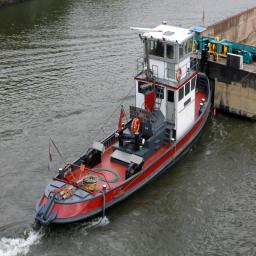tugboat: (33, 21, 218, 234)
